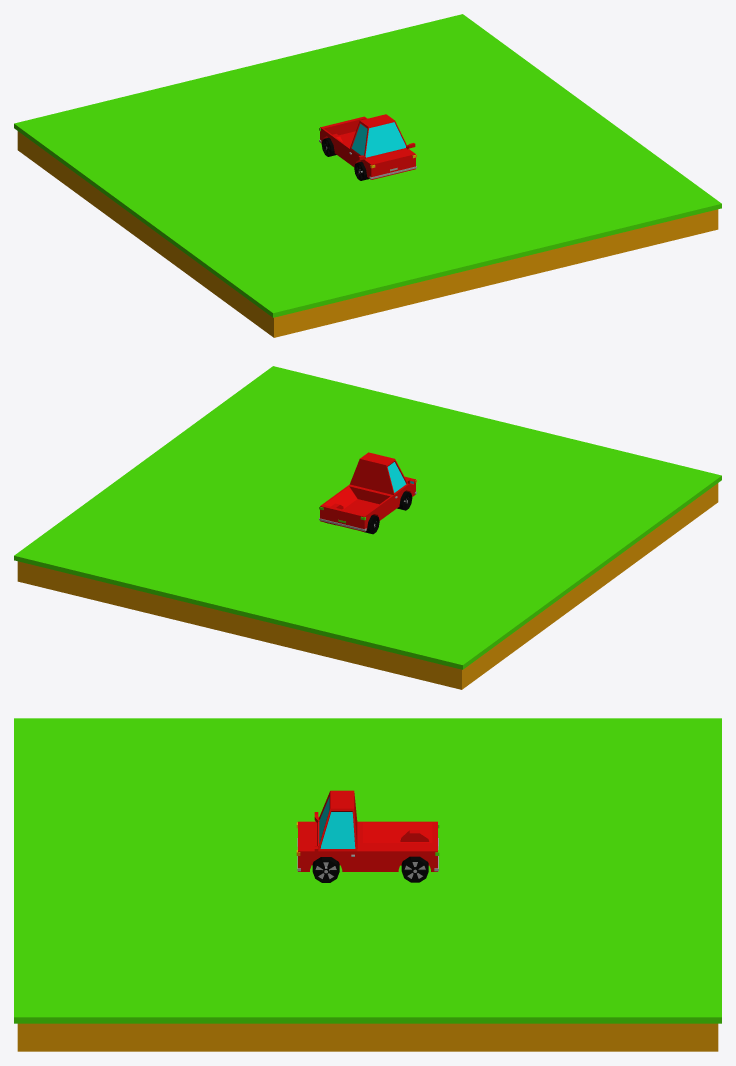
The model's file is CAR.fbx.
3 views of the same model, one above another, from view 1: azimuth 30°, elevation 25°; view 2: azimuth 150°, elevation 25°; view 3: azimuth 270°, elevation 25° (orthographic). The views are drawn at different scales.
Visible parts, largest first — view 1: Cube.006, Cube.005, Cube; view 2: Cube.006, Cube.005, Cube; view 3: Cube.006, Cube.005, Cube, Cube.002, Cube.001.
Boxes of the visible parts, bbox=[...] form: Cube.006: bbox=[14, 14, 721, 317]; Cube.005: bbox=[17, 131, 718, 337]; Cube: bbox=[319, 114, 416, 179]; Cube.006: bbox=[14, 366, 721, 669]; Cube.005: bbox=[17, 483, 718, 689]; Cube: bbox=[319, 452, 416, 531]; Cube.006: bbox=[14, 718, 721, 1023]; Cube.005: bbox=[17, 1023, 718, 1051]; Cube: bbox=[296, 790, 439, 871]; Cube.002: bbox=[401, 856, 428, 882]; Cube.001: bbox=[312, 857, 339, 882].
Size of the model in its own units: 2020 by 327 by 2020.
